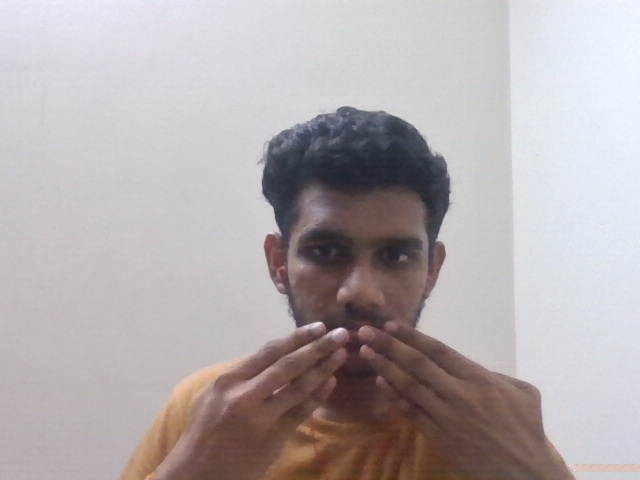thanks: (163, 307, 584, 471)
